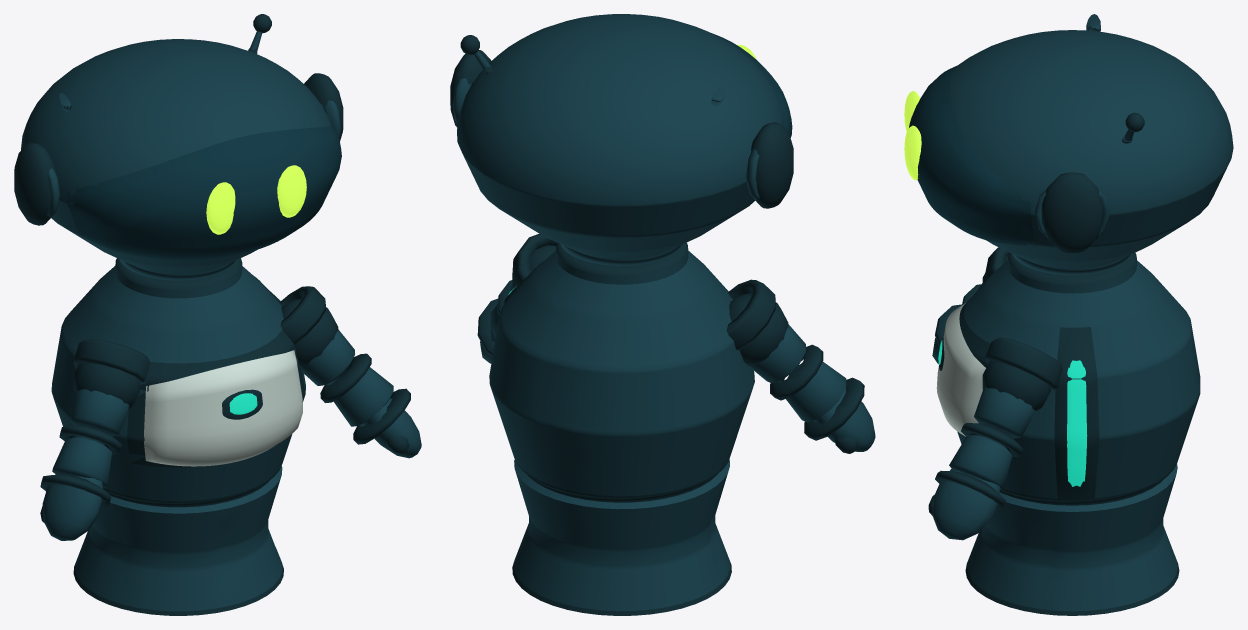
The model's file is smartbot-character.glb.
The picture shows the model from 3 angles, left to right: view 1: azimuth 30°, elevation 25°; view 2: azimuth 150°, elevation 25°; view 3: azimuth 270°, elevation 25°; orthographic projection. The views are drawn at different scales.
Parts seen in each view (by area): view 1: Torso, Head, Visor, ArmR, ArmL, EarPodR, EarPodL, EyeL, EyeR, ChestCore; view 2: Torso, Head, ArmR, EarPodR, ArmL, EarPodL, Visor; view 3: Torso, Head, ArmL, Visor, EdgeStrip, EarPodL, EyeL, ArmR.
Boxes of the visible parts, x1=… form: Torso: x1=51, y1=258, x2=325, y2=615; Head: x1=21, y1=39, x2=331, y2=280; Visor: x1=66, y1=126, x2=341, y2=260; ArmR: x1=40, y1=362, x2=139, y2=540; ArmL: x1=281, y1=299, x2=421, y2=458; EarPodR: x1=14, y1=143, x2=59, y2=225; EarPodL: x1=304, y1=73, x2=343, y2=140; EyeL: x1=277, y1=165, x2=306, y2=217; EyeR: x1=206, y1=182, x2=235, y2=234; ChestCore: x1=222, y1=389, x2=262, y2=419; Torso: x1=489, y1=233, x2=775, y2=615; Head: x1=457, y1=14, x2=781, y2=265; ArmR: x1=729, y1=293, x2=875, y2=453; EarPodR: x1=746, y1=122, x2=793, y2=208; ArmL: x1=477, y1=245, x2=555, y2=363; EarPodL: x1=450, y1=50, x2=491, y2=127; Visor: x1=711, y1=33, x2=792, y2=137; Torso: x1=936, y1=247, x2=1200, y2=615; Head: x1=950, y1=30, x2=1233, y2=275; ArmL: x1=928, y1=360, x2=1050, y2=540; Visor: x1=909, y1=65, x2=1035, y2=246; EdgeStrip: x1=1054, y1=327, x2=1099, y2=499; EarPodL: x1=1034, y1=172, x2=1110, y2=253; EyeL: x1=904, y1=125, x2=921, y2=180; ArmR: x1=932, y1=255, x2=1008, y2=363.
Size of the model in its own units: 0.7516 by 1 by 0.5721.
